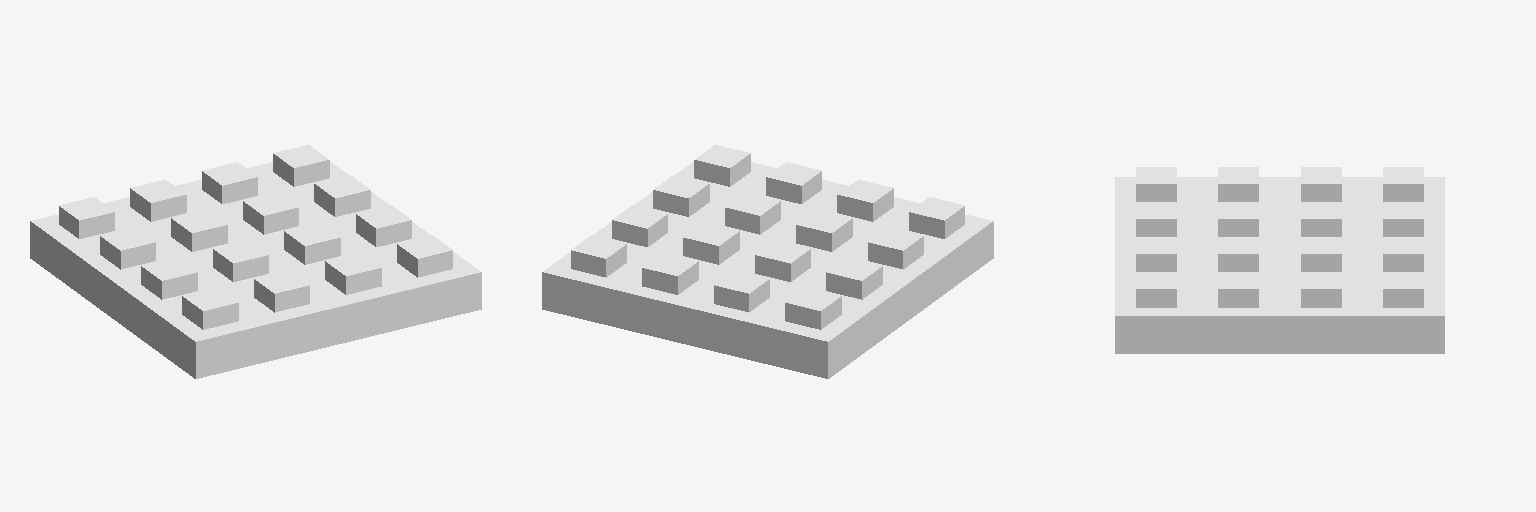
File: scaffoldTopBase000(16,16,16).obj
3 views of the same model, side by side, from view 1: azimuth 30°, elevation 25°; view 2: azimuth 150°, elevation 25°; view 3: azimuth 270°, elevation 25° (orthographic).
Bounding box in the file's own units: 16 × 3 × 16.